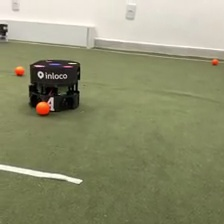ball: (34, 99, 51, 117), (14, 65, 25, 78), (211, 56, 219, 66)
goal: (1, 18, 97, 51)
robot: (26, 57, 83, 114), (1, 21, 10, 44)
